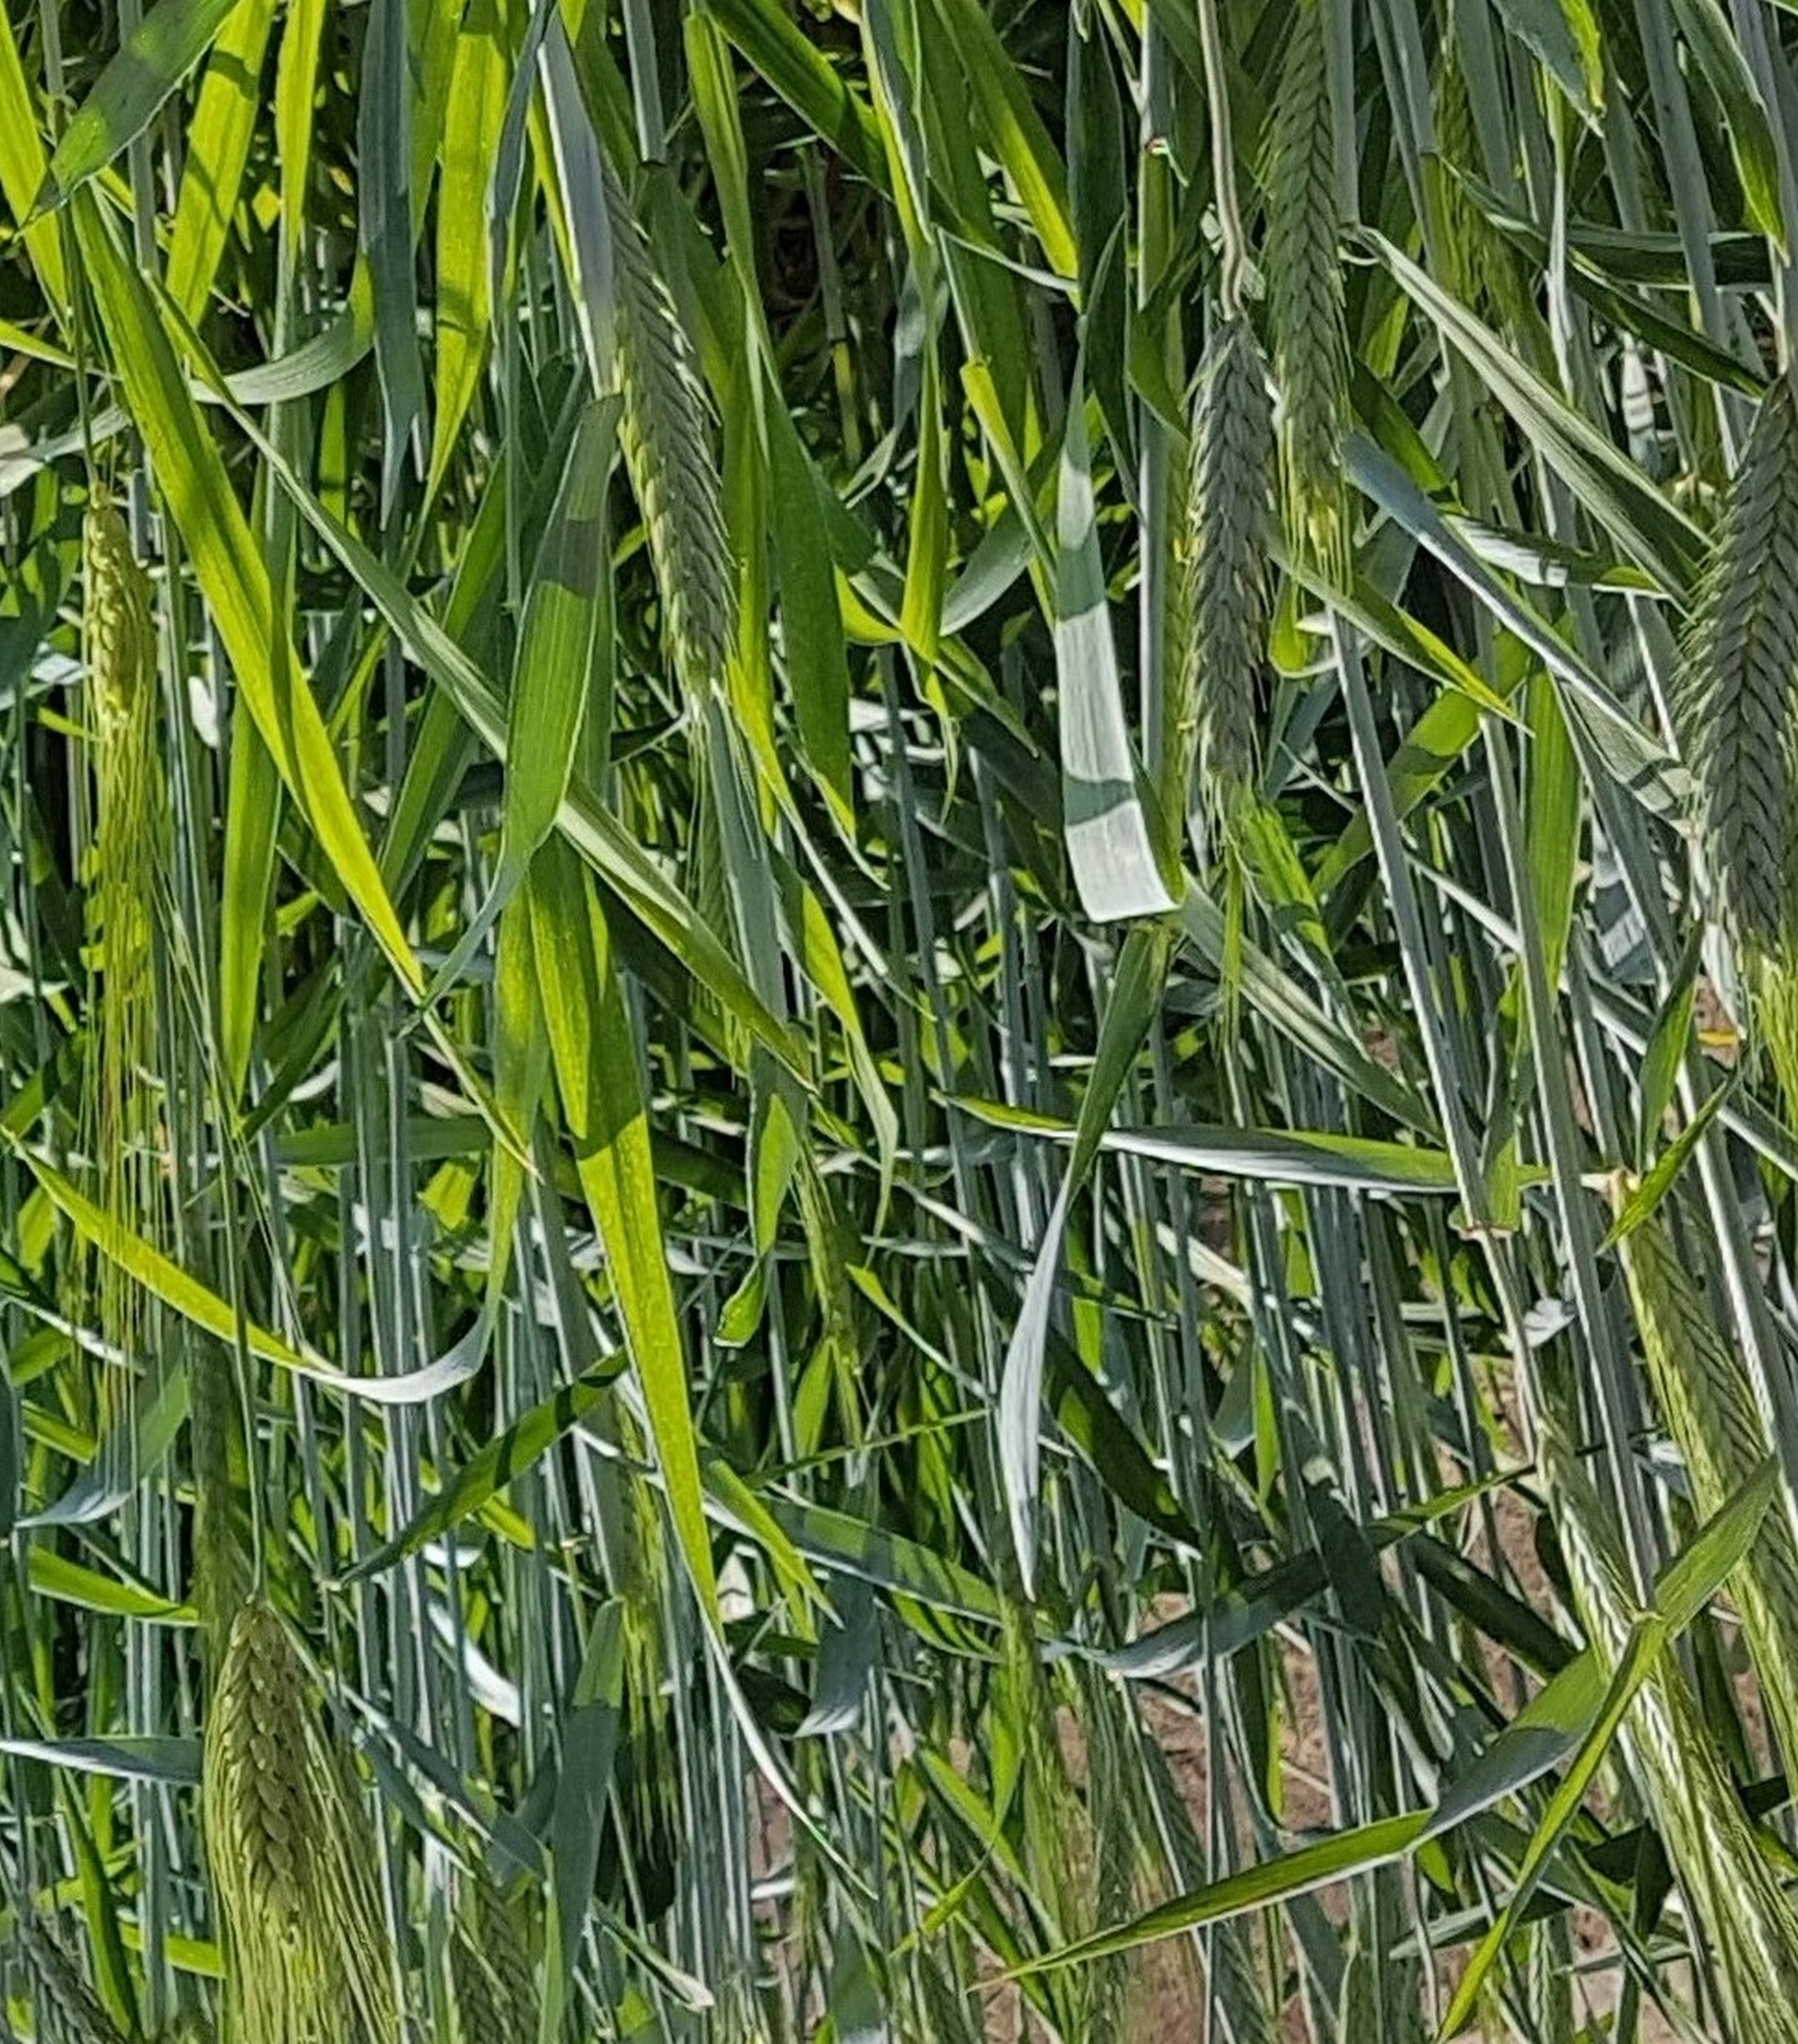Healthy Wheat: (1647, 342, 1798, 996), (1610, 1218, 1798, 1637), (586, 207, 736, 721), (1169, 282, 1325, 772), (202, 1583, 358, 1933)
